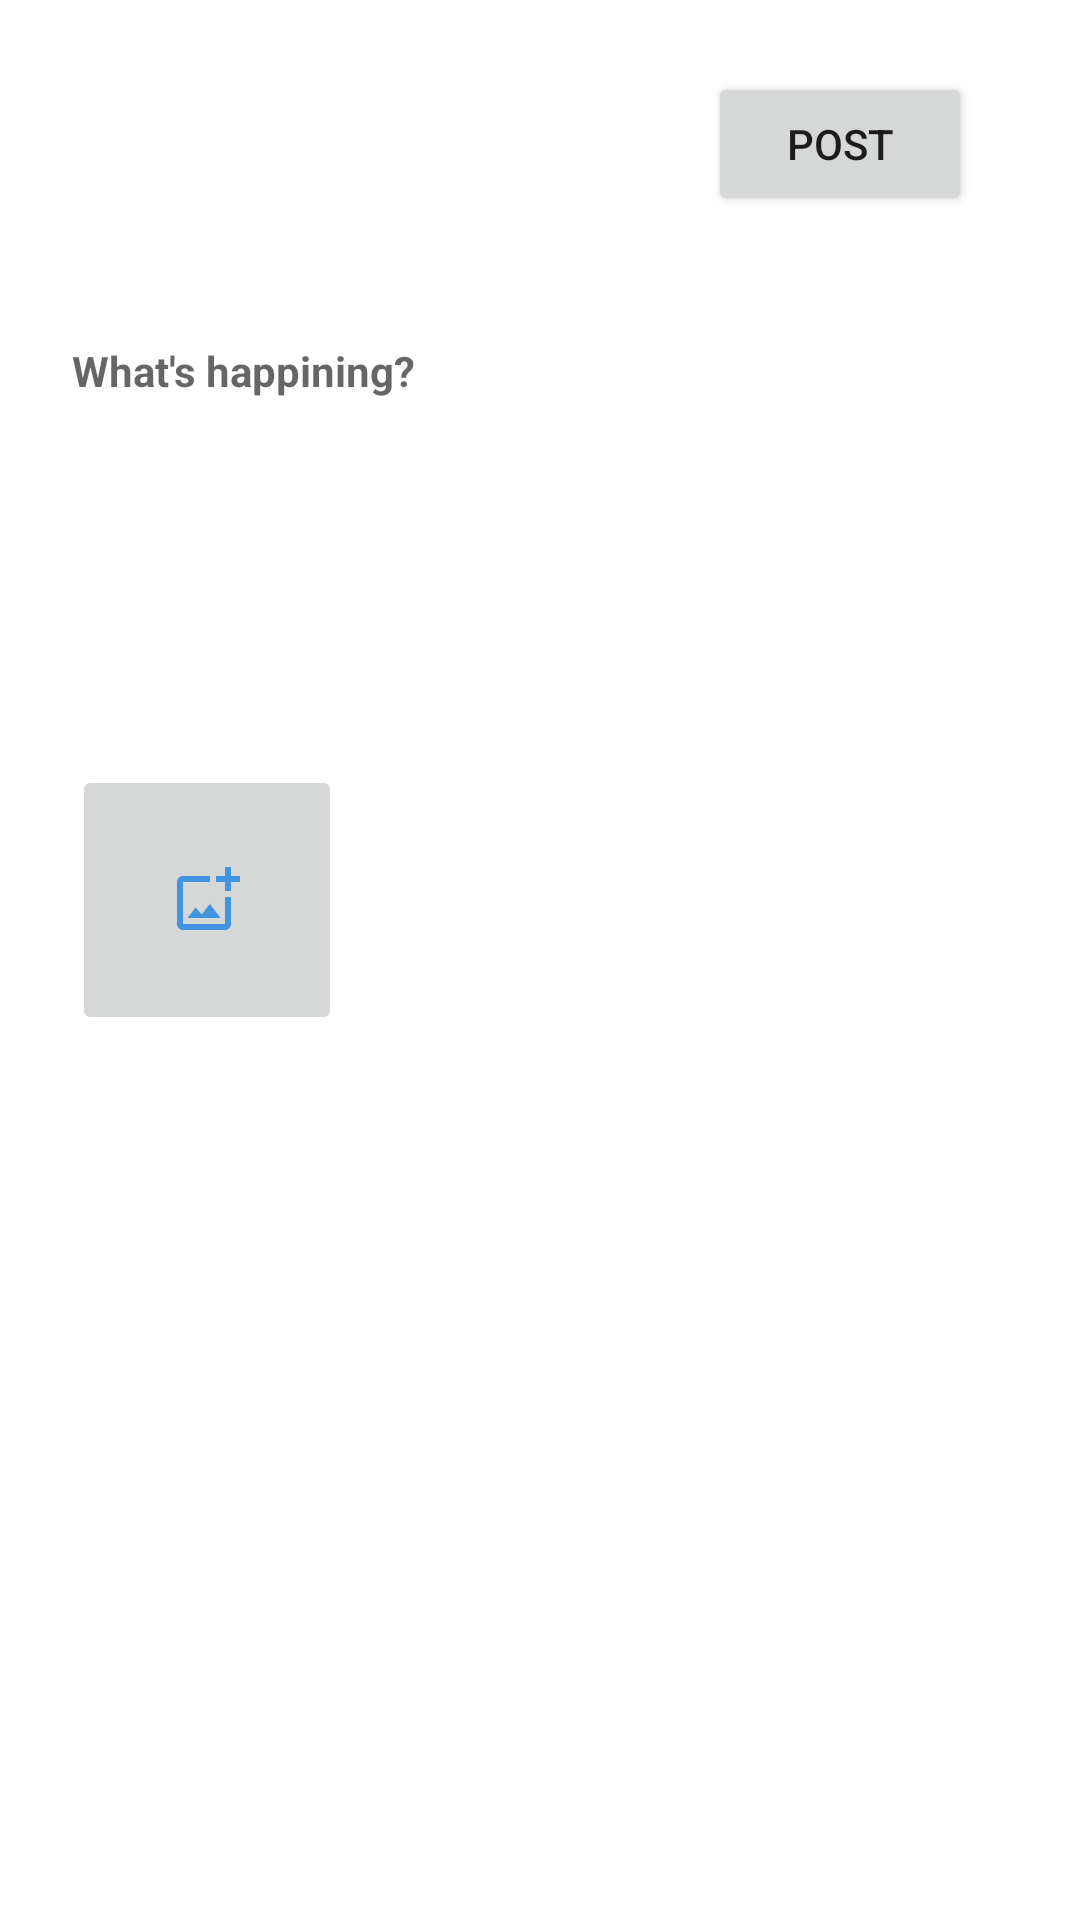

Locate icon controls on the screen. Image size 1080x1920, boxes as (x1, y1, x2, y2).
add photo alternate: (84, 783, 330, 1017)
